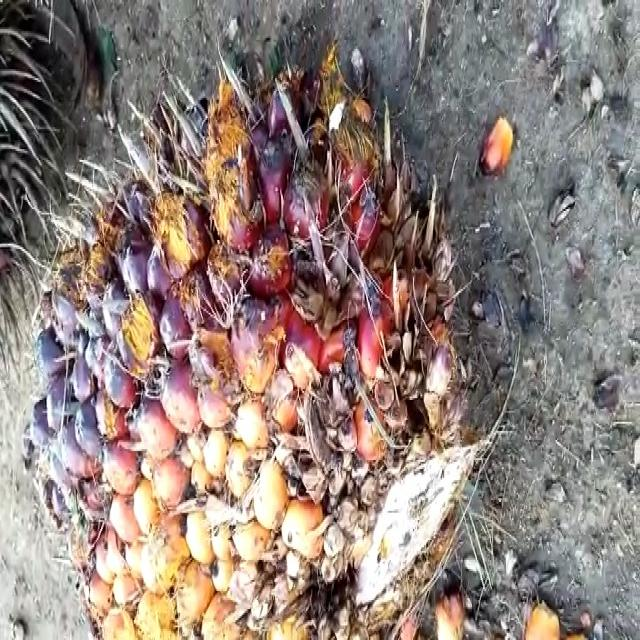palm oil: (33, 89, 494, 640)
